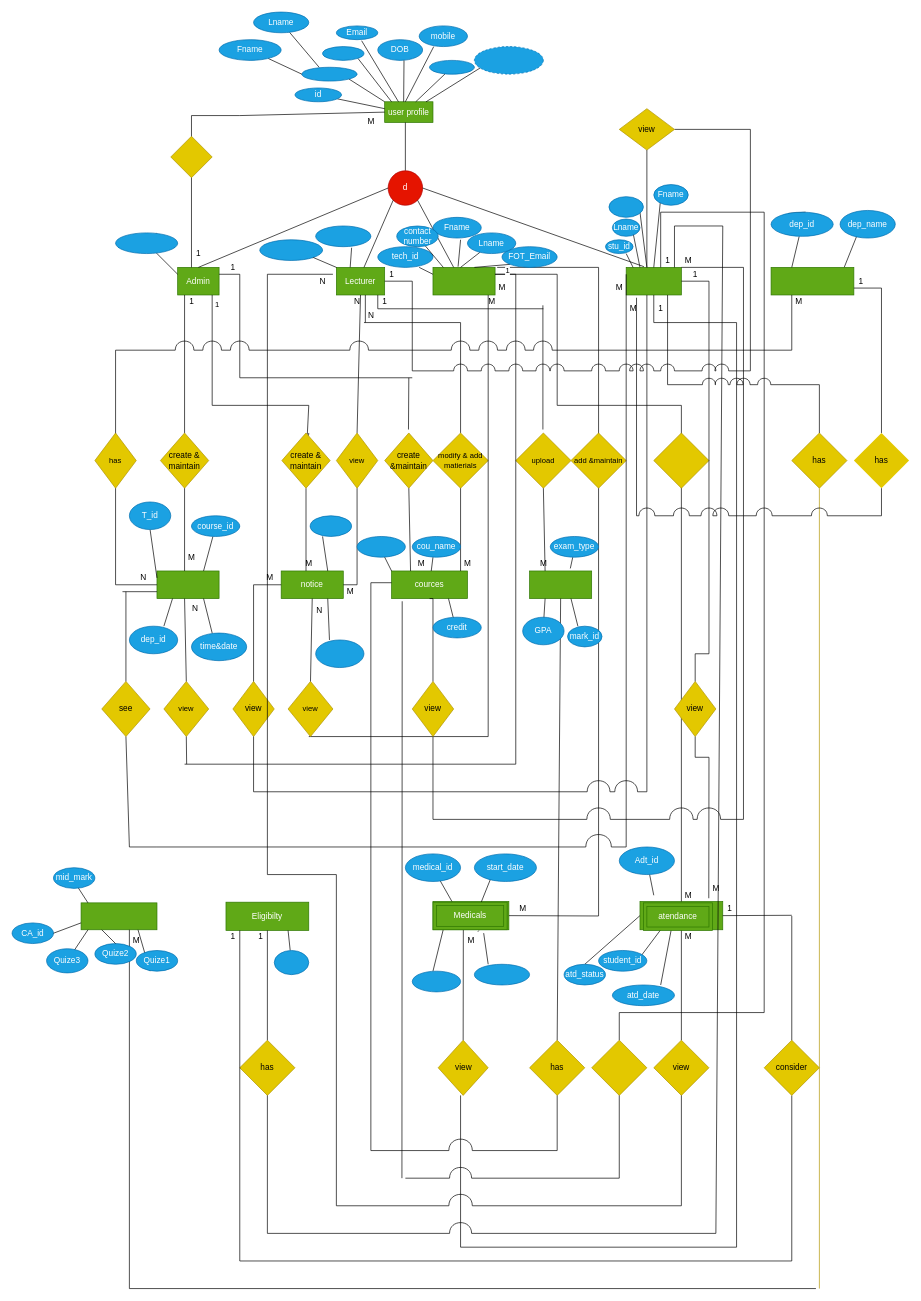
This 921x1301 diagram has some shape labels left out. Here are the shapes that lost their labels. From the top down, the centre of each, then its label:
At (x=343, y=53): "Adrdress".
At (x=451, y=67): "gender".
At (x=508, y=60): "age".
At (x=329, y=74): "name".
At (x=191, y=157): "create".
At (x=625, y=206): "FOT Email".
At (x=146, y=243): "ad_role".
At (x=291, y=249): "lec_name".
At (x=343, y=236): "lec_id".
At (x=463, y=281): "Technical officer".
At (x=653, y=281): "student".
At (x=812, y=281): "department".
At (x=681, y=460): "add & maintain".
At (x=330, y=525): "subject".
At (x=380, y=546): "cource_id".
At (x=187, y=584): "time table".
At (x=560, y=584): "exam marks".
At (x=339, y=653): "notice_id".
At (x=118, y=916): "CA".
At (x=291, y=962): "eligibility".
At (x=436, y=981): "doctor_id".
At (x=502, y=974): "end_date".
At (x=619, y=1067): "enroll".
